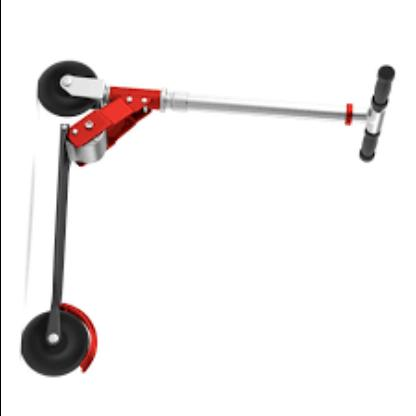bike: (25, 59, 412, 380)
